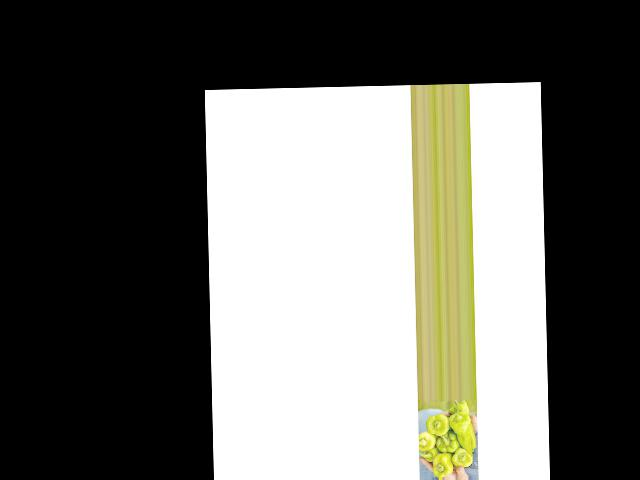bell_pepper: (430, 451, 452, 476)
